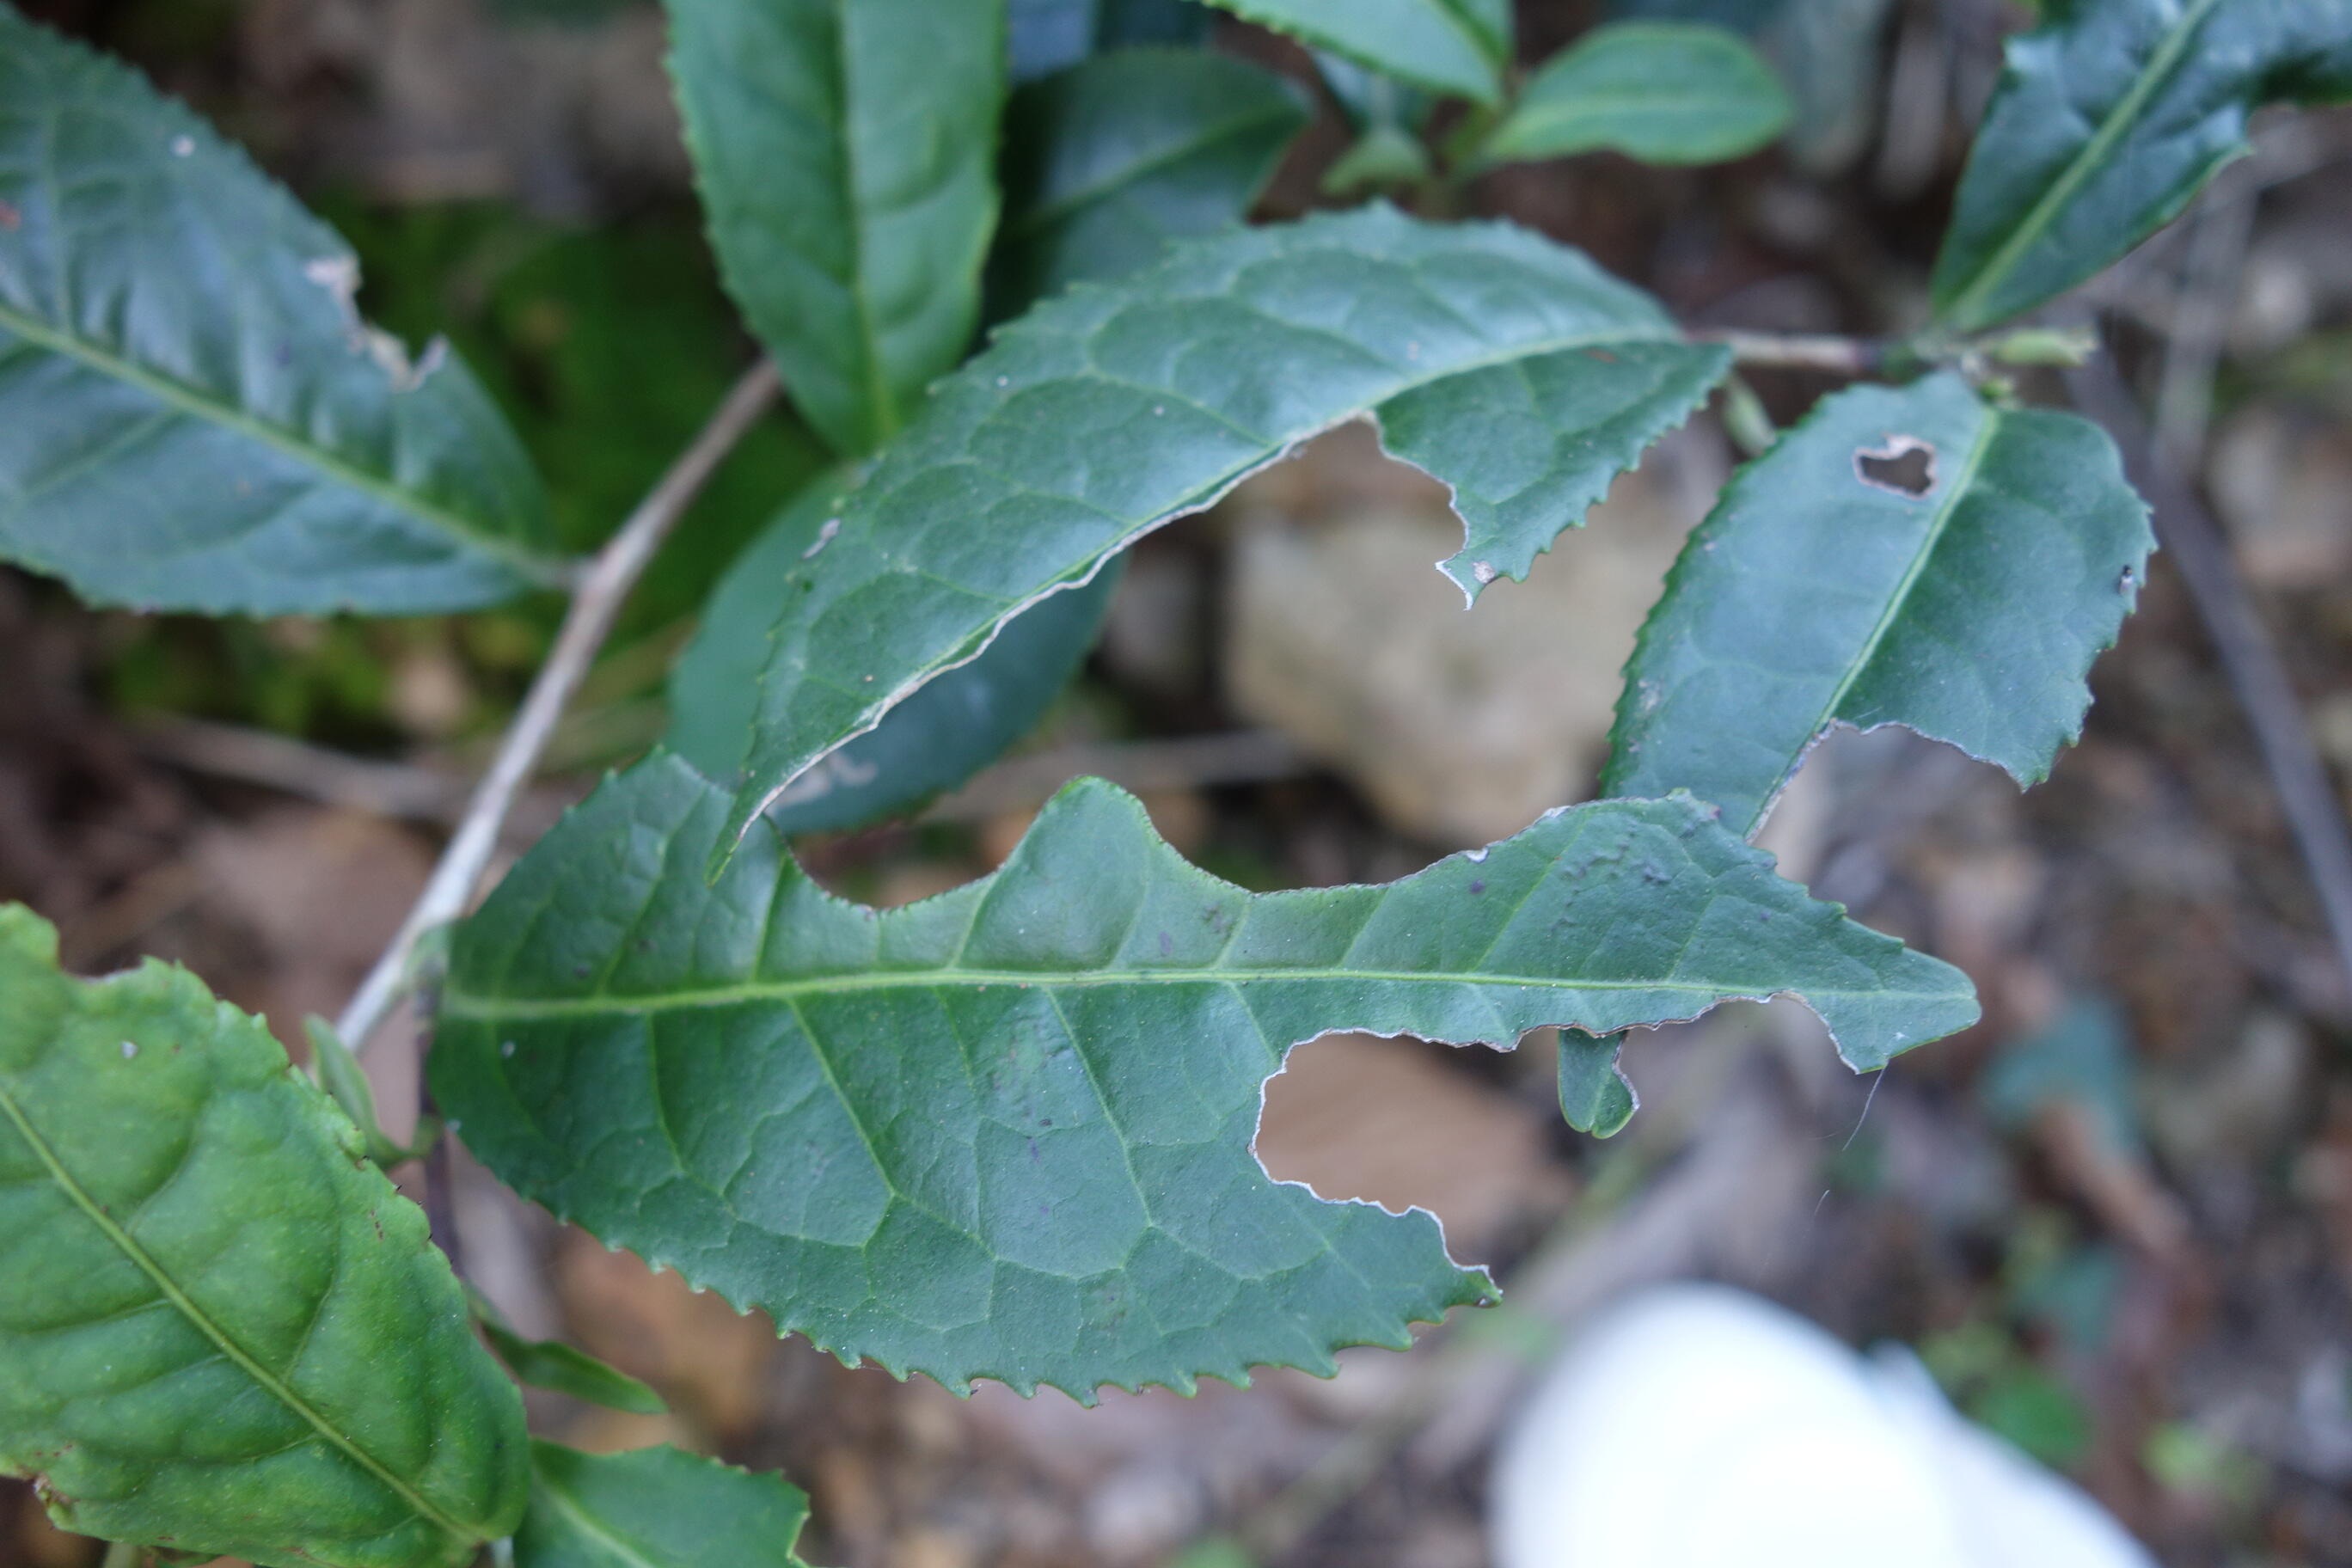chihuo_high: (436, 740, 1986, 1412), (709, 196, 1736, 887), (1554, 366, 2159, 1139)
chihuo_low: (3, 899, 528, 1566), (3, 12, 563, 623)
